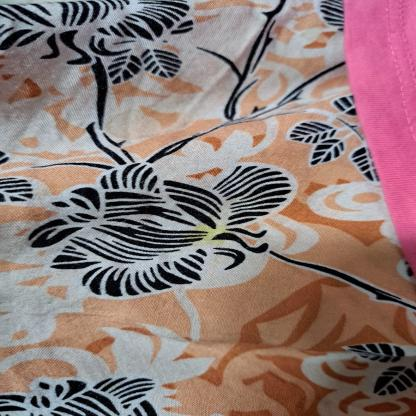spot: (188, 220, 239, 247)
